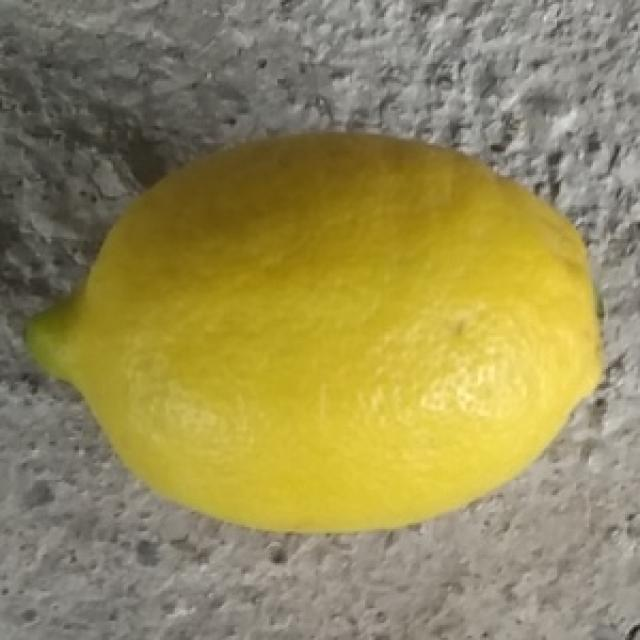Lemon: (27, 126, 606, 537)
